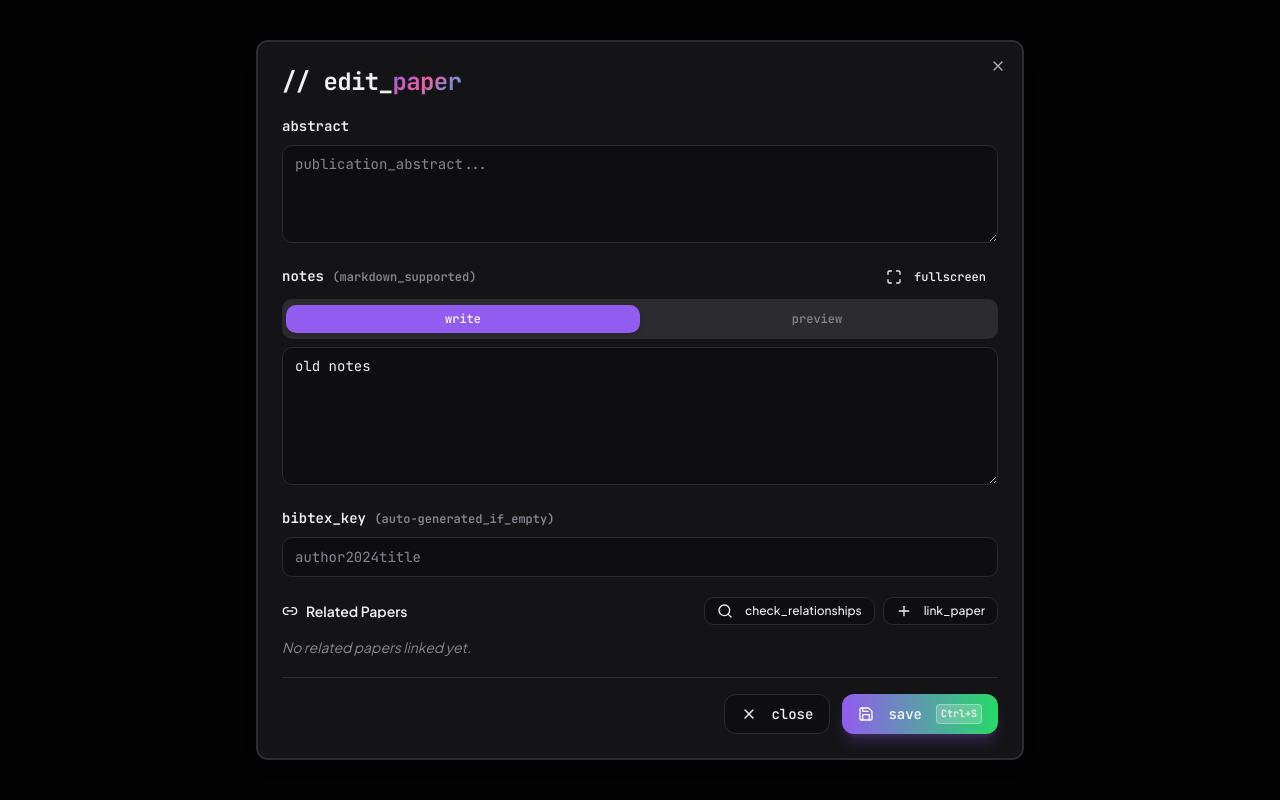
Test: PublicationDialog pending-suggestions close guard › shows a pending-suggestions dialog instead of closing when there are unreviewed suggestions
(page scrolled)
Step 1. Click the button "check_relationships" → (789, 611), box [704,597,875,625]
(page scrolled)
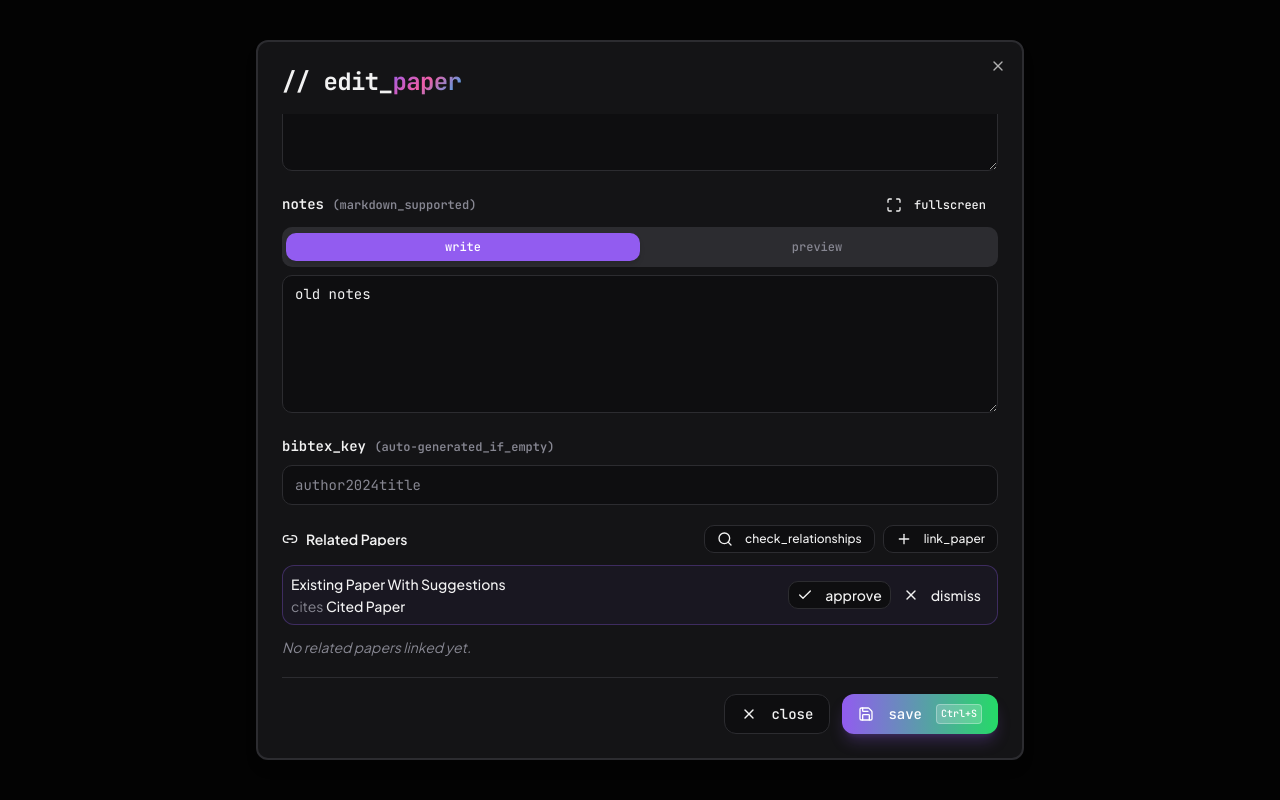
Expected: the button "approve" is shown, [788,581,891,609]
Step 2. Click the button "close" → (777, 714), box [724,694,830,734]
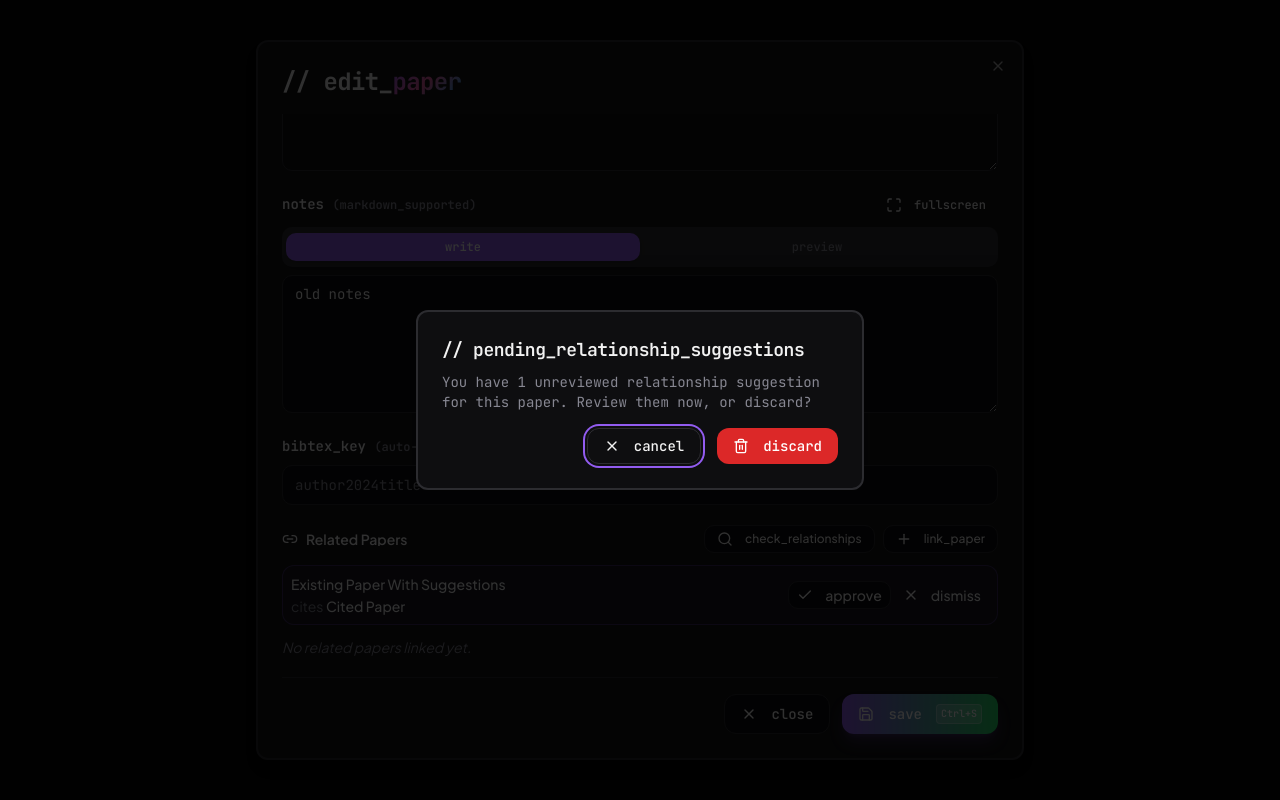
Expected: the heading "// pending_relationship_suggestions" is shown, [442,336,838,364]
